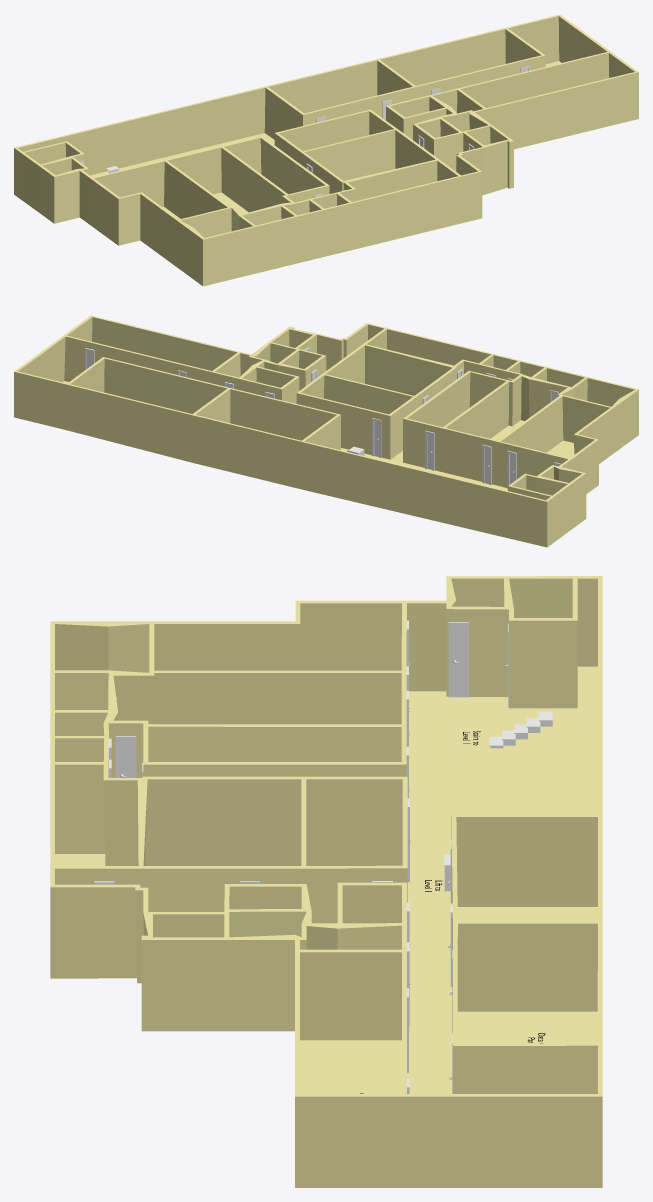
Rendered from COM1 Basement.glb.
3 views of the same model, one above another, from view 1: azimuth 30°, elevation 25°; view 2: azimuth 150°, elevation 25°; view 3: azimuth 270°, elevation 25° (orthographic). The views are drawn at different scales.
Parts seen in each view (by area): view 1: Plane; view 2: Plane; view 3: Plane, Door.001, Stairs.
Part boxes in pixels (<box>): Plane: <box>14,14,638,286</box>; Plane: <box>14,315,638,547</box>; Plane: <box>50,576,602,1187</box>; Door.001: <box>452,625,465,697</box>; Stairs: <box>489,711,552,748</box>.
Size of the model in its own units: 29.82 by 2.54 by 13.38.
